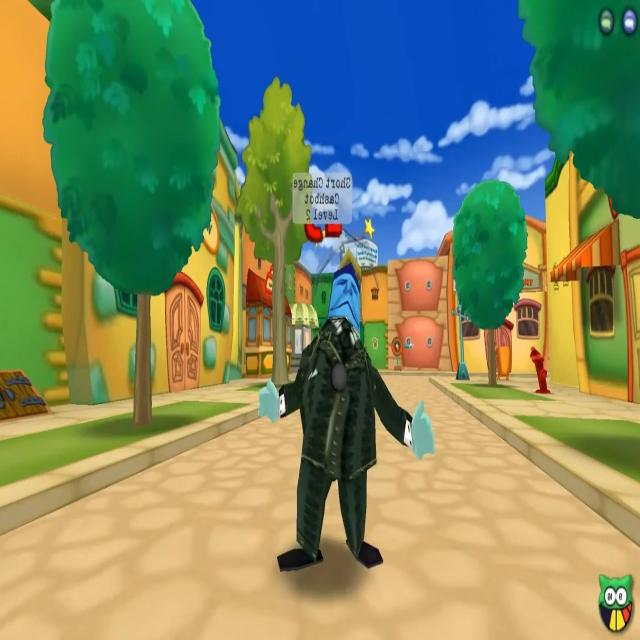shortchange: (262, 173, 433, 580)
